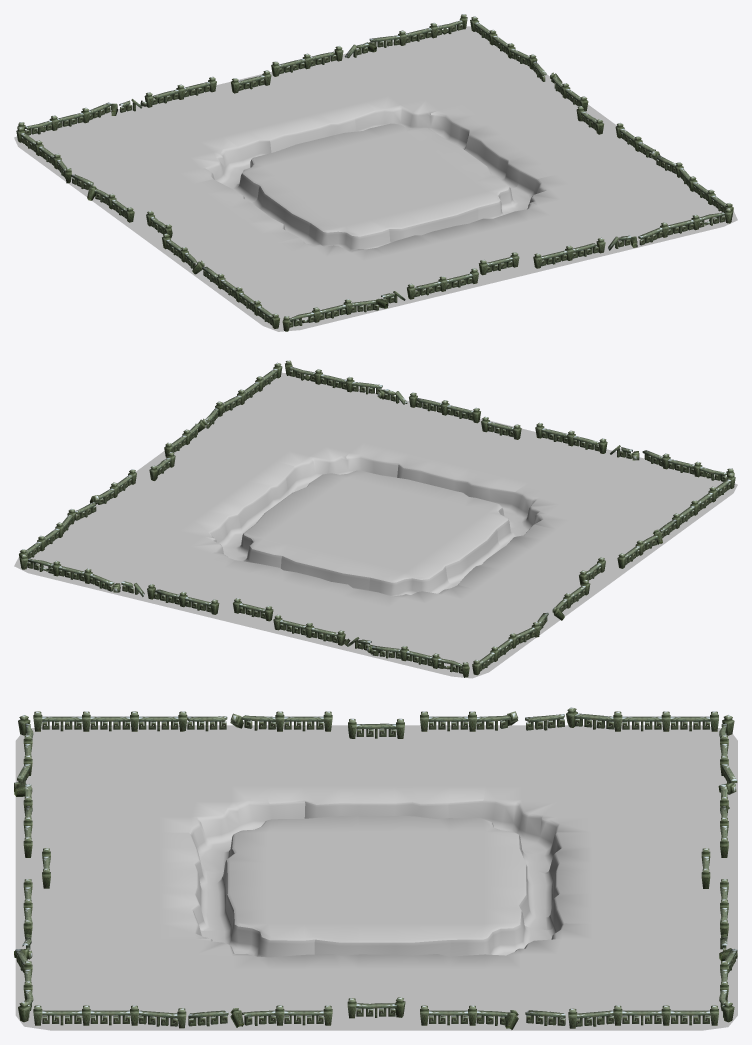
File: sn_zdcj_obj05.FBX
The picture shows the model from 3 angles, top to bottom: view 1: azimuth 30°, elevation 25°; view 2: azimuth 150°, elevation 25°; view 3: azimuth 270°, elevation 25°; orthographic projection. The views are drawn at different scales.
Parts seen in each view (by area): view 1: snft_dmjc02, snft_dmjc04, snft_dmjc08, snft_dmjc06, snft_dmjc07, snft_dmjc05, snft_dmjc01, snft_dmjc03, snft_dmjc09, snft_dmjc12, snft_dmjc10, snft_dmjc11 (+8 smaller); view 2: snft_dmjc04, snft_dmjc02, snft_dmjc06, snft_dmjc08, snft_dmjc05, snft_dmjc07, snft_dmjc03, snft_dmjc01, snft_dmjc09, snft_dmjc10, snft_dmjc12, snft_dmjc11 (+8 smaller); view 3: snft_dmjc04, snft_dmjc02, snft_dmjc08, snft_dmjc06, snft_dmjc05, snft_dmjc07, snft_dmjc03, snft_dmjc01, snft_dmjc09, snft_dmjc10, snft_dmjc12, snft_dmjc11 (+32 smaller).
Boxes of the visible parts, x1,y1,x2,y2 form: snft_dmjc02: [14, 99, 238, 206]; snft_dmjc04: [181, 237, 440, 331]; snft_dmjc08: [315, 26, 552, 114]; snft_dmjc06: [532, 153, 737, 255]; snft_dmjc07: [431, 83, 642, 179]; snft_dmjc05: [377, 202, 605, 295]; snft_dmjc01: [174, 65, 375, 147]; snft_dmjc03: [100, 179, 298, 266]; snft_dmjc09: [242, 135, 393, 208]; snft_dmjc12: [371, 160, 509, 223]; snft_dmjc10: [333, 123, 479, 180]; snft_dmjc11: [286, 187, 419, 236]; snft_dmjc04: [515, 445, 737, 552]; snft_dmjc02: [311, 585, 569, 678]; snft_dmjc06: [191, 372, 411, 467]; snft_dmjc08: [14, 510, 234, 607]; snft_dmjc05: [346, 404, 579, 491]; snft_dmjc07: [95, 440, 294, 537]; snft_dmjc03: [458, 524, 651, 612]; snft_dmjc01: [170, 560, 378, 641]; snft_dmjc09: [308, 517, 479, 582]; snft_dmjc10: [243, 497, 370, 564]; snft_dmjc12: [286, 470, 442, 523]; snft_dmjc11: [395, 488, 508, 544]; snft_dmjc04: [15, 725, 269, 834]; snft_dmjc02: [483, 725, 737, 833]; snft_dmjc08: [519, 923, 737, 1030]; snft_dmjc06: [15, 938, 269, 1030]; snft_dmjc05: [15, 832, 208, 939]; snft_dmjc07: [268, 949, 521, 1030]; snft_dmjc03: [268, 725, 485, 804]; snft_dmjc01: [554, 832, 737, 923]; snft_dmjc09: [358, 816, 526, 886]; snft_dmjc10: [358, 885, 526, 942]; snft_dmjc12: [227, 870, 358, 942]; snft_dmjc11: [226, 816, 358, 871].
Size of the model in its own units: 80.74 by 5.05 by 80.18.
